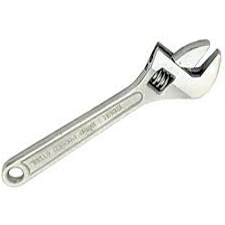wrench: (8, 38, 225, 191)
